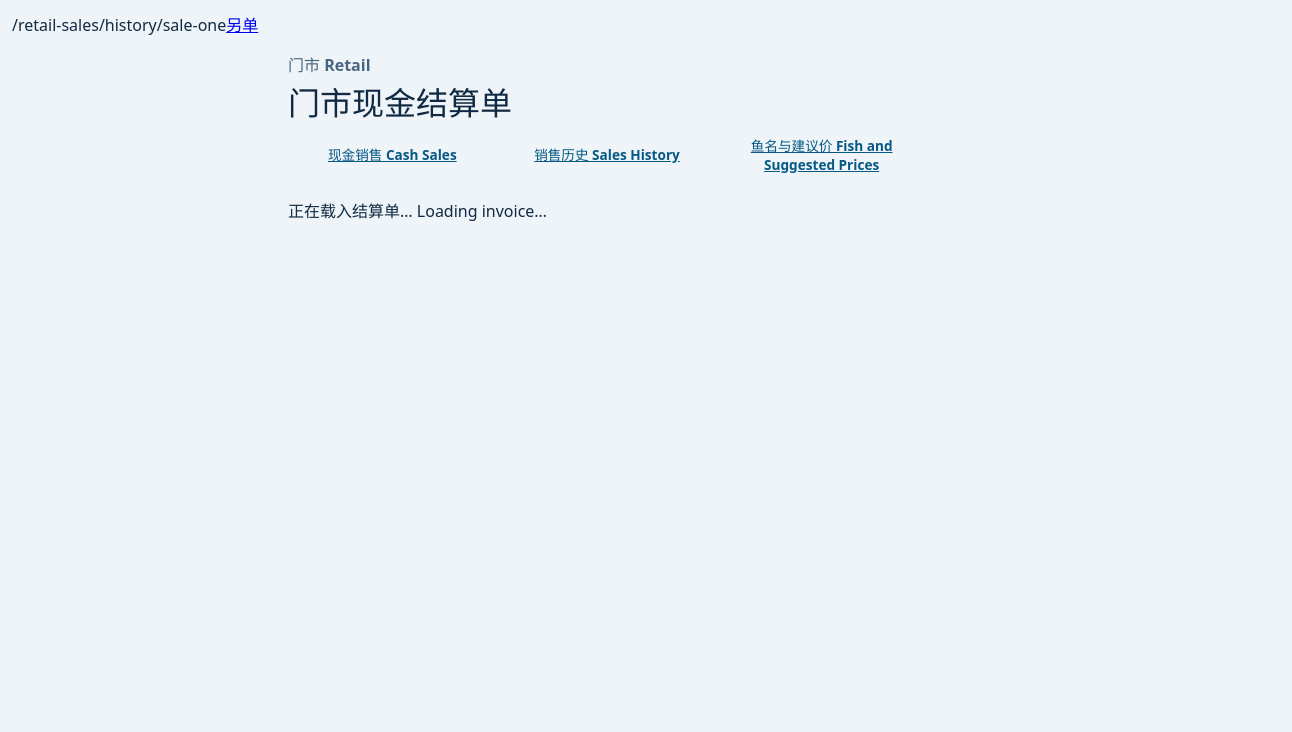
Test: ignores a stale invoice response after the URL changes and retries the current saleId
Click the link "另单" at [242, 25], box [226,14,258,36]
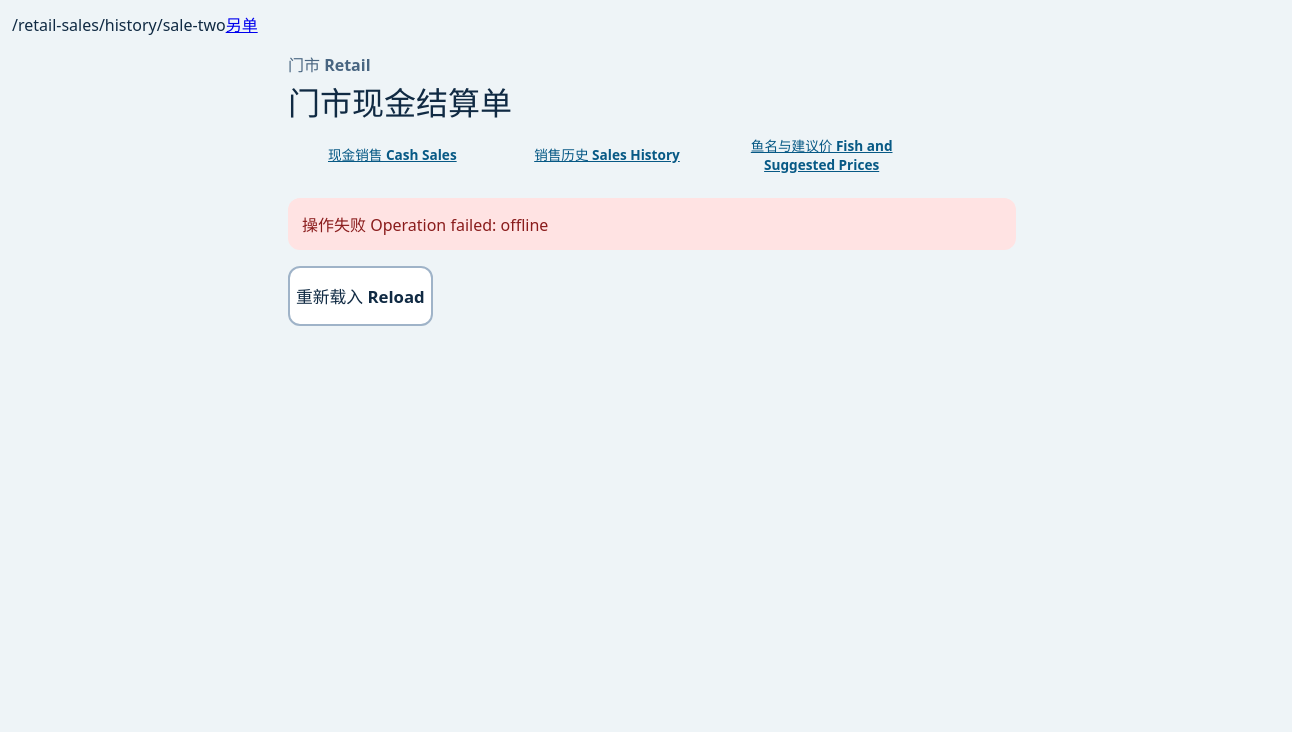
Expected: the message "操作失败 Operation failed: offline" is shown, [288,198,1016,250]
Click the button "重新载入 Reload" at [360, 296], box [288,266,433,326]
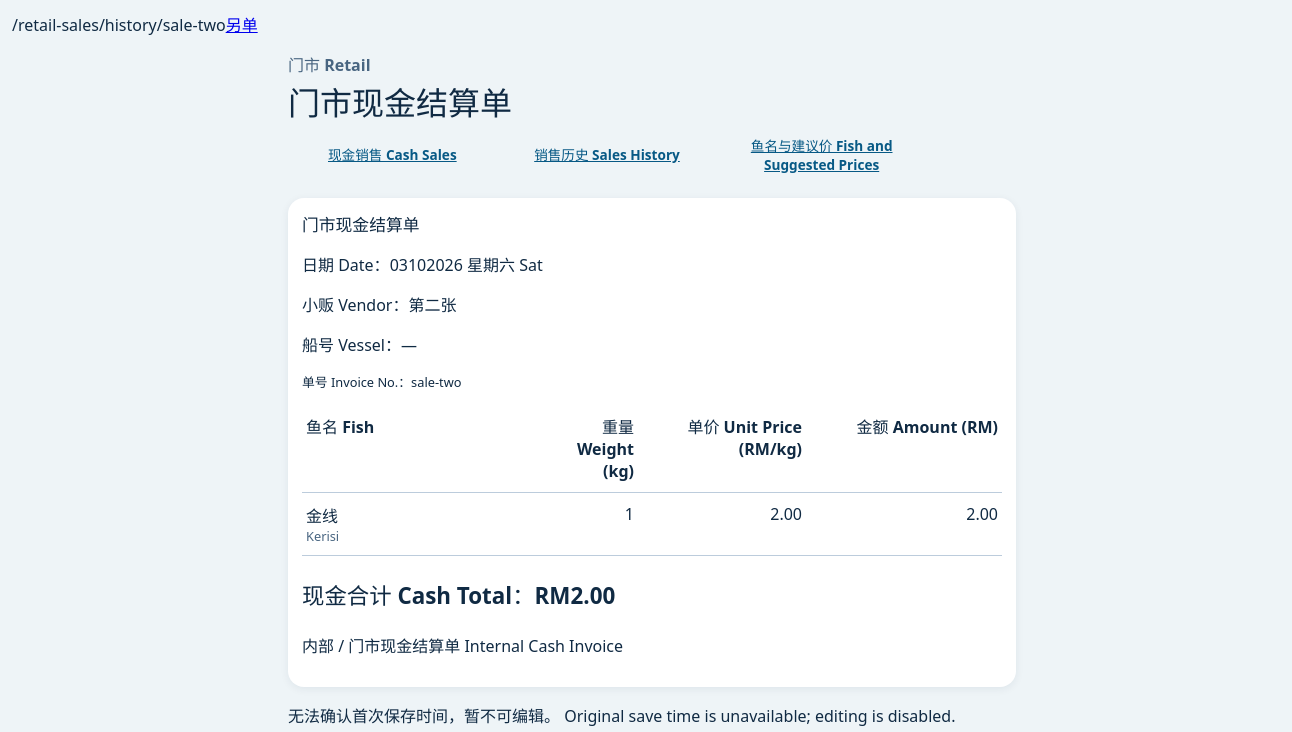
Expected: the text "小贩 Vendor：第二张" is shown, [302,294,456,316]
